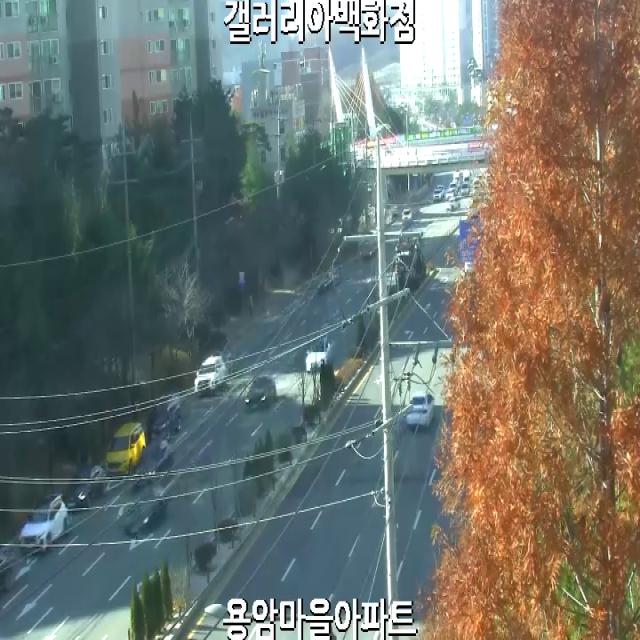Car: (114, 478, 174, 543), (18, 493, 69, 553), (105, 421, 146, 475), (64, 463, 106, 510), (149, 395, 181, 443), (194, 356, 228, 396), (245, 377, 277, 412), (406, 391, 435, 426), (305, 338, 331, 371), (0, 547, 17, 591)
